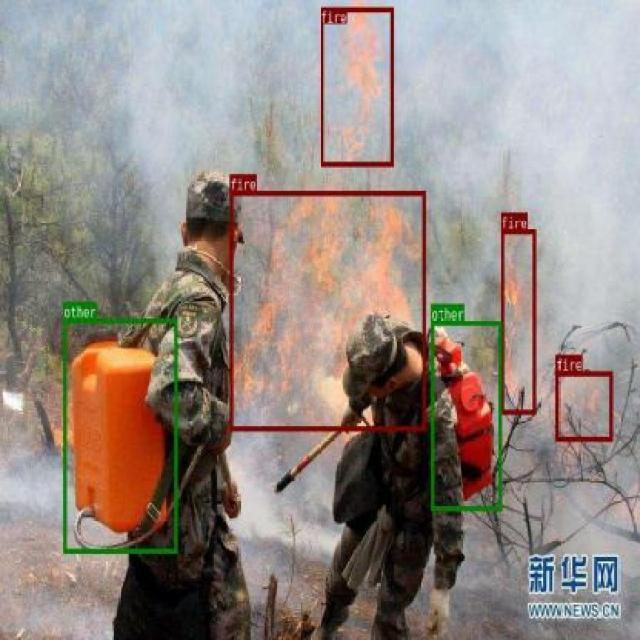Fire: (230, 190, 424, 430), (320, 6, 392, 166), (500, 228, 536, 414), (556, 371, 612, 442)
